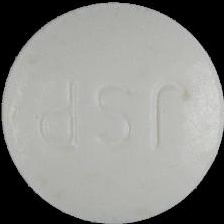63187-459: (0, 0, 224, 224)
